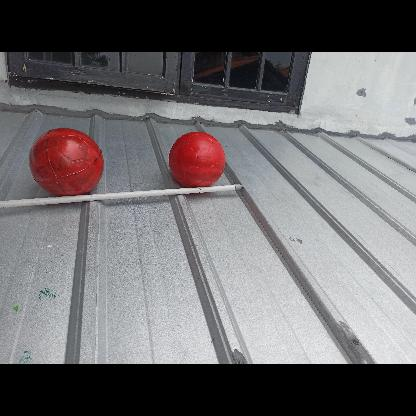red_ball: (31, 126, 104, 198), (168, 131, 228, 190)
